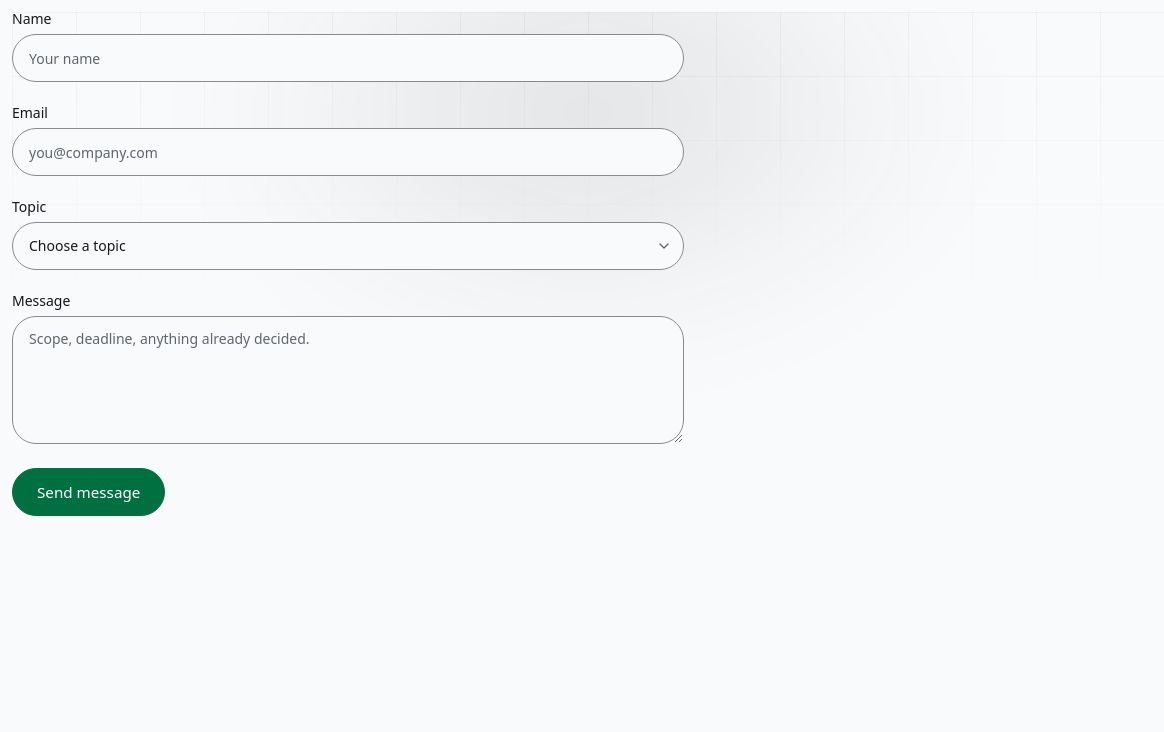
Test case: ContactForm submission › counts a delivered message as a contact-submit event carrying the topic
Type "Ada Lovelace" into the field labelled "Name" at (348, 58), box [12,34,684,82]
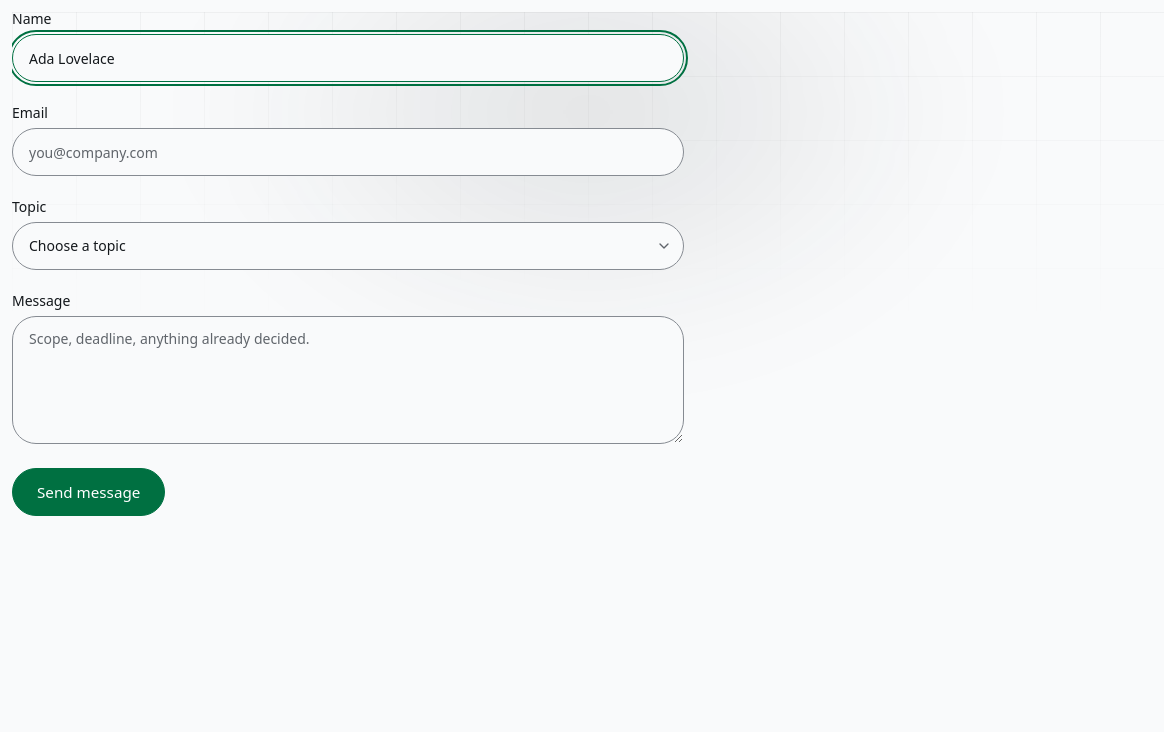
Type "ada@example.com" into the field labelled "Email" at (348, 152), box [12,128,684,176]
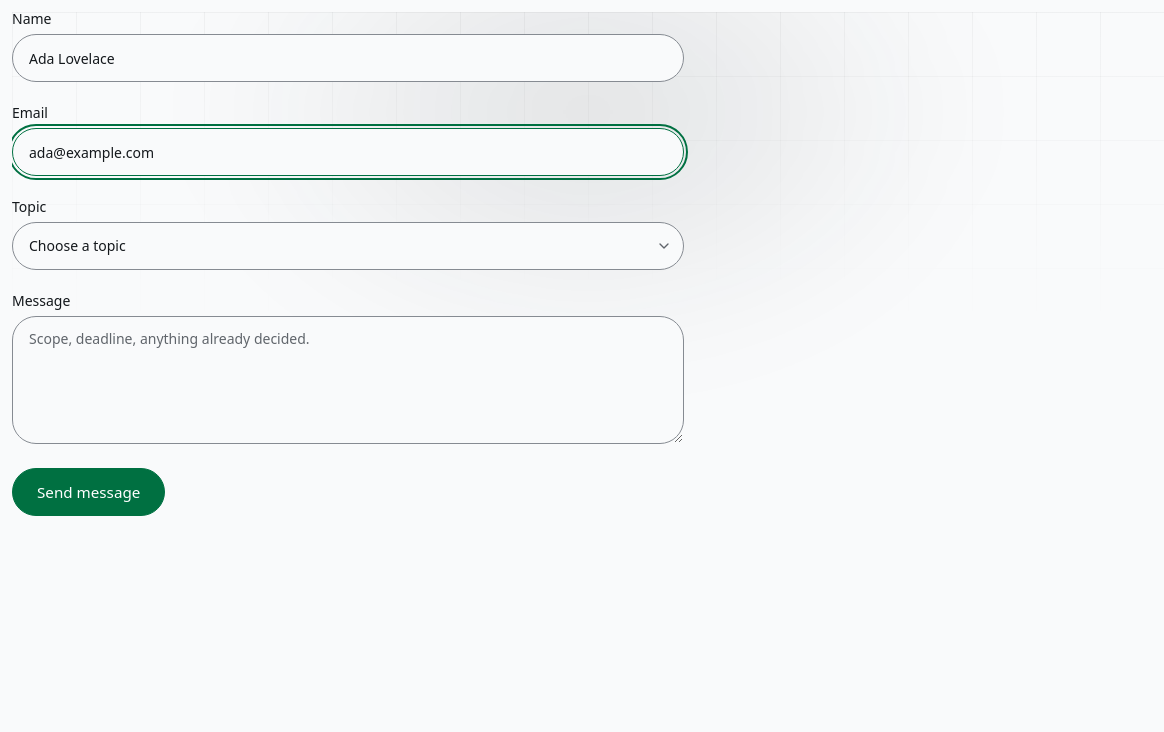
Select "Web development" in the dropdown labelled "Topic" at (348, 246), box [12,222,684,270]
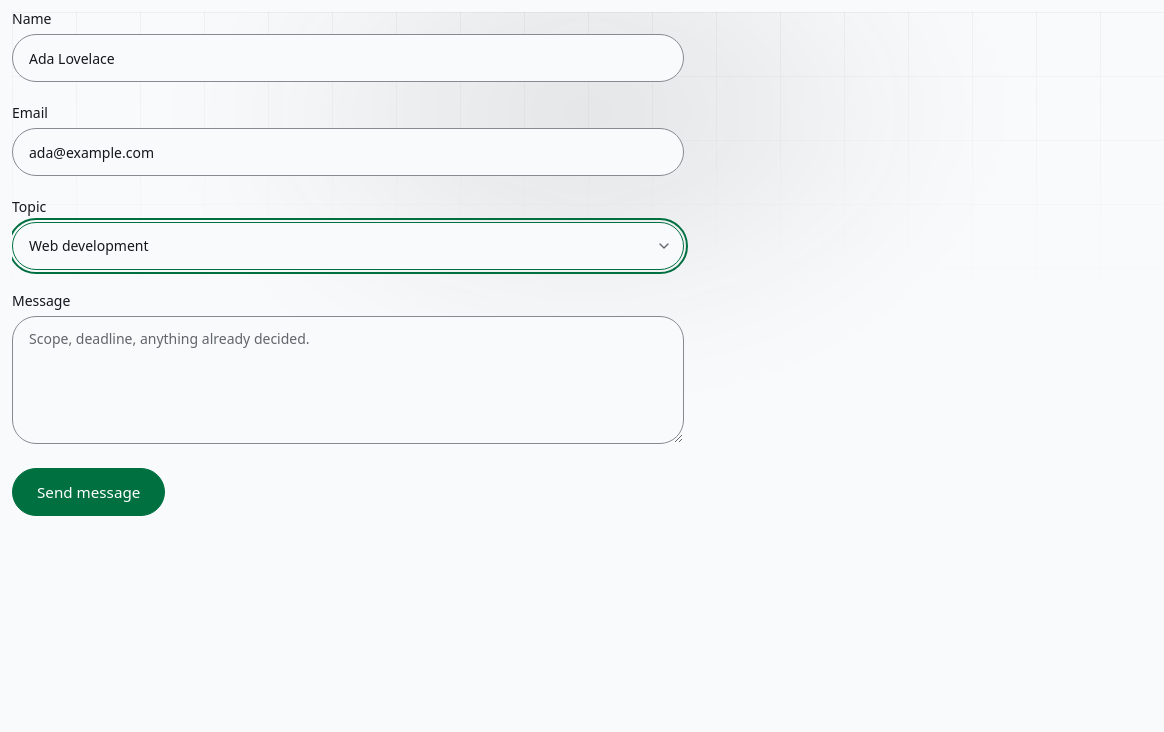
Type "Hello there" into the text box labelled "Message" at (348, 380), box [12,316,684,444]
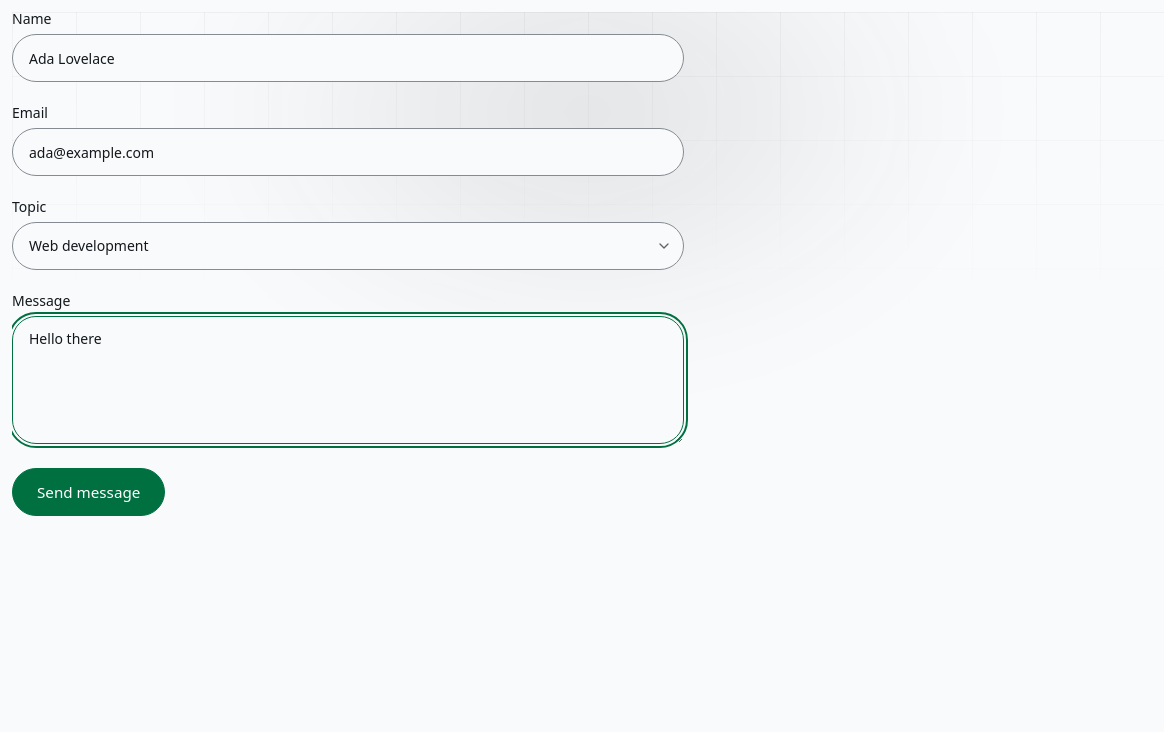
Click the button "Send message" at (89, 492), box [12,468,165,516]
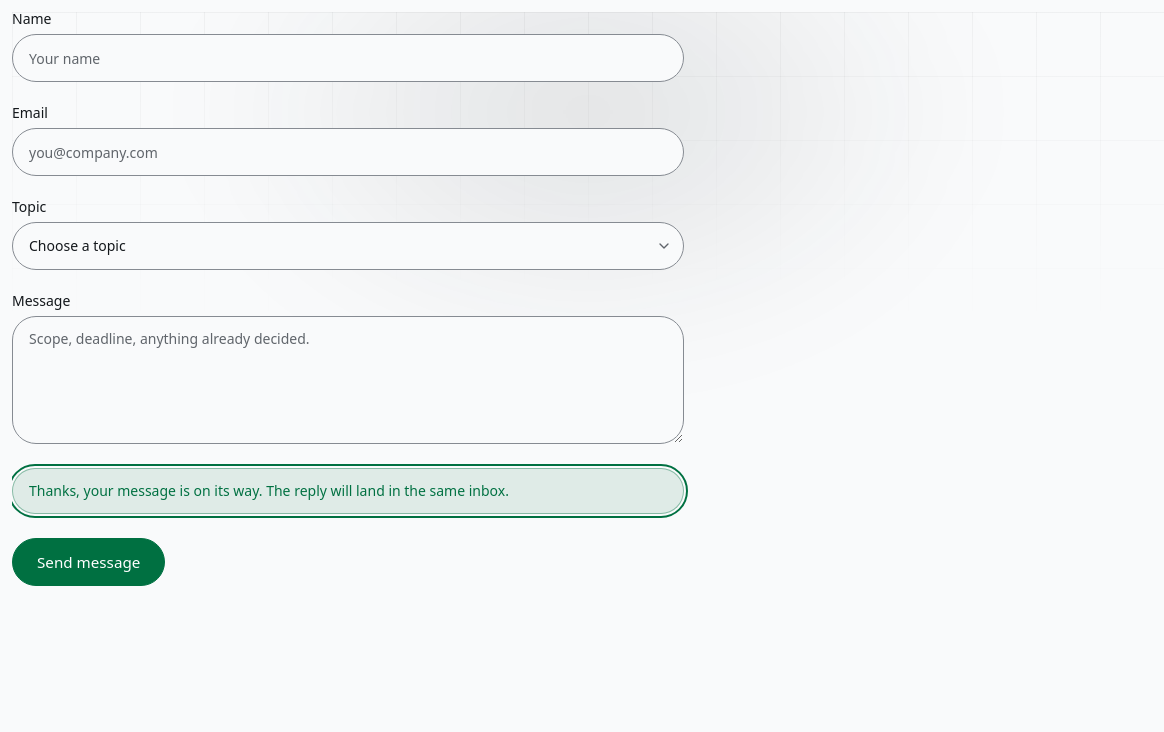
Result: the text "Thanks, your message is on its way. The reply will land in the same inbox." is shown at [12,468,684,514]
